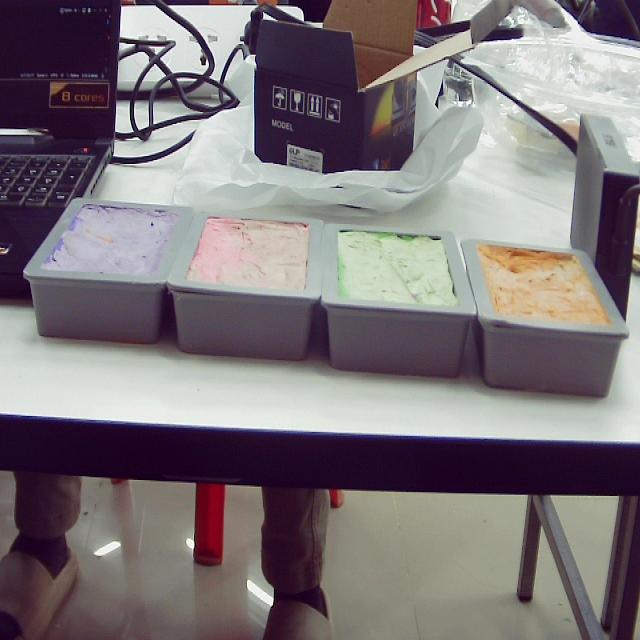block: (462, 240, 632, 395), (22, 198, 196, 344), (163, 211, 325, 361), (318, 225, 474, 378)
